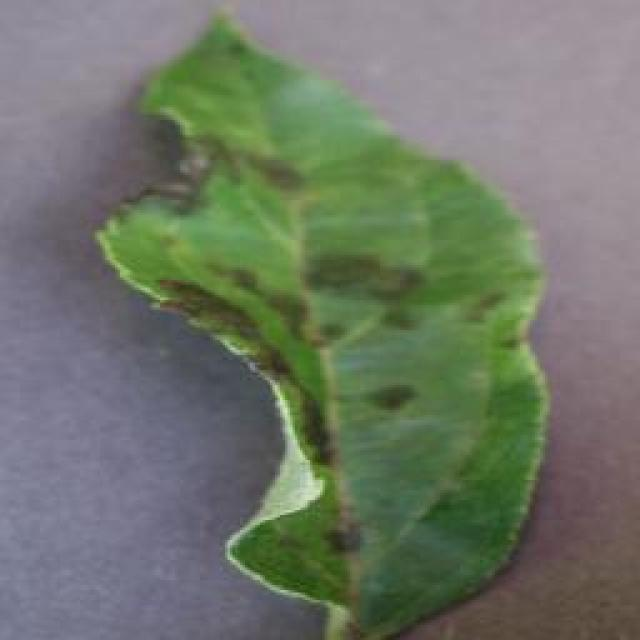apple scab disease: (92, 5, 552, 637)
